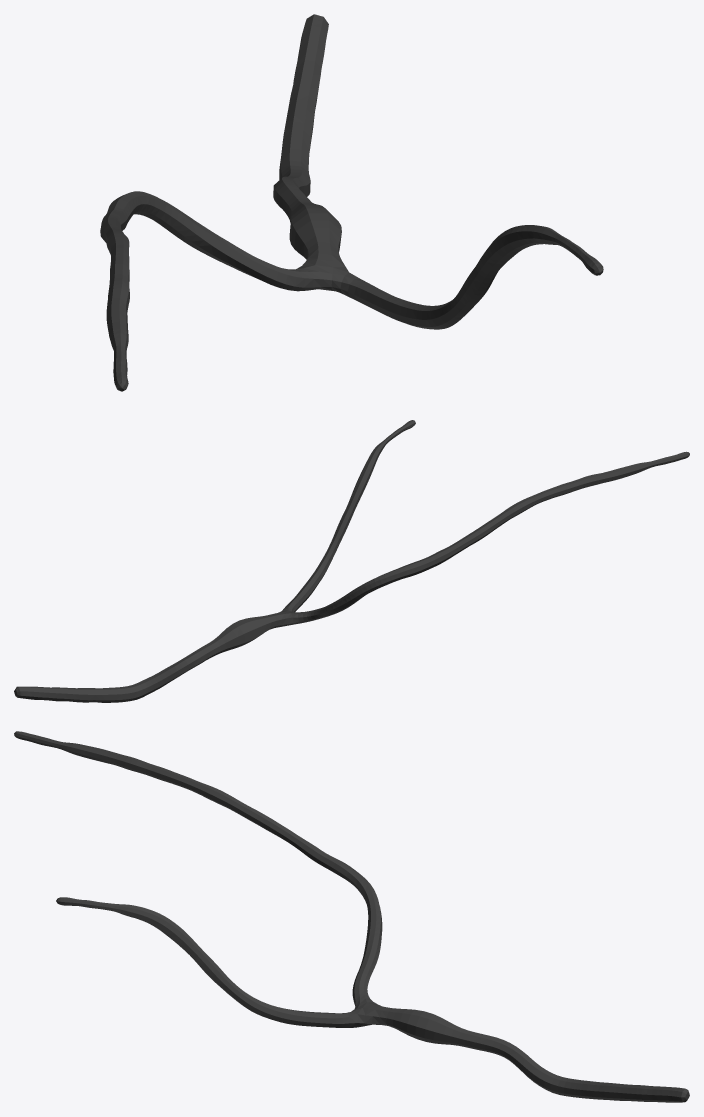
Rendered from Uterus.glb.
3 views of the same model, one above another, from view 1: azimuth 30°, elevation 25°; view 2: azimuth 150°, elevation 25°; view 3: azimuth 270°, elevation 25° (orthographic). The views are drawn at different scales.
Parts seen in each view (by area): view 1: Uterus; view 2: Uterus; view 3: Uterus.
Boxes of the visible parts, box(x1,y1,x2,y2) form: Uterus: box(100, 14, 603, 391); Uterus: box(14, 420, 689, 702); Uterus: box(14, 731, 689, 1102).
Size of the model in its own units: 5.55 by 2.11 by 7.13.
Materials: 1 (1 with a texture image).
